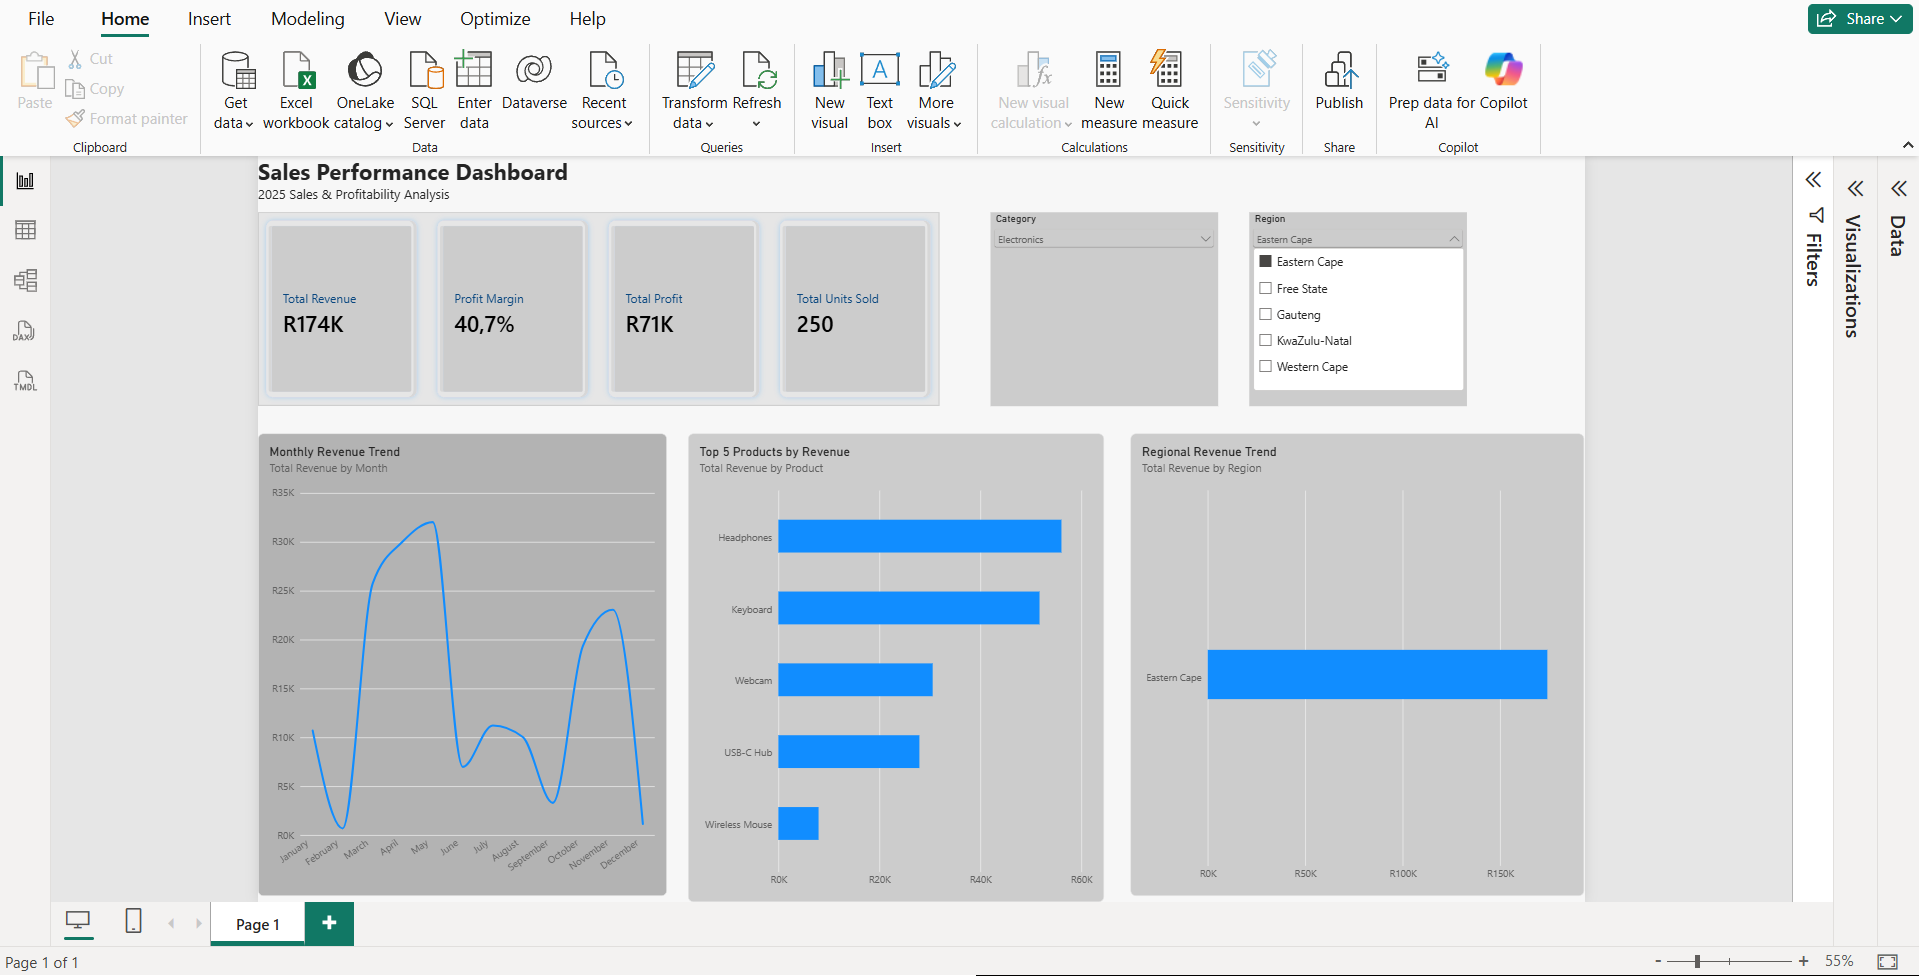

Layout of this report page (visuals, bound fields, positions):
{"tool":"powerbi","page":{"name":"Page 1","canvas":[1920,1080],"ordinal":0},"visuals":[{"type":"cardVisual","fields":{"Data":["Sales_Data.Total Revenue","Sales_Data.Profit Margin","Sales_Data.Total Profit","Sales_Data.Total Units Sold"]},"box":[0,81.2,988.1,280.5],"z":0},{"type":"lineChart","title":"Monthly Revenue Trend","fields":{"Category":["Sales_Data.Order Date.Variation.Date Hierarchy.Year","Sales_Data.Order Date.Variation.Date Hierarchy.Quarter","Sales_Data.Order Date.Variation.Date Hierarchy.Month","Sales_Data.Order Date.Variation.Date Hierarchy.Day"],"Y":["Sales_Data.Total Revenue"]},"box":[0,401.7,591.8,669.6],"z":1},{"type":"clusteredBarChart","title":"Regional Revenue Trend","fields":{"Category":["Sales_Data.Region"],"Y":["Sales_Data.Total Revenue"]},"box":[1263.1,401.7,656.9,669.6],"z":2},{"type":"clusteredBarChart","title":"Top 5 Products by Revenue","fields":{"Category":["Sales_Data.Product"],"Y":["Sales_Data.Total Revenue"]},"box":[622.5,401.7,602.6,678.6],"z":3},{"type":"slicer","fields":{"Values":["Sales_Data.Region"]},"box":[1435.1,81.4,314.9,280.5],"z":4},{"type":"slicer","fields":{"Values":["Sales_Data.Category"]},"box":[1060.5,81.4,329.4,280.5],"z":5},{"type":"textbox","box":[0,0,470.5,161.1],"z":6}]}

Visuals, with their boxes on the page's 1920x1080 design canvas (x1, y1, x2, y2). These are canvas units, not pixel positions in the 1919x976 screenshot, which may show the page scaled, cropped or inside an application window:
cardVisual - Sales_Data.Total Revenue x Sales_Data.Profit Margin: [0, 81, 988, 362]
"Monthly Revenue Trend" lineChart: [0, 402, 592, 1071]
"Regional Revenue Trend" clusteredBarChart: [1263, 402, 1920, 1071]
"Top 5 Products by Revenue" clusteredBarChart: [622, 402, 1225, 1080]
slicer - Sales_Data.Region: [1435, 81, 1750, 362]
slicer - Sales_Data.Category: [1060, 81, 1390, 362]
textbox: [0, 0, 470, 161]
